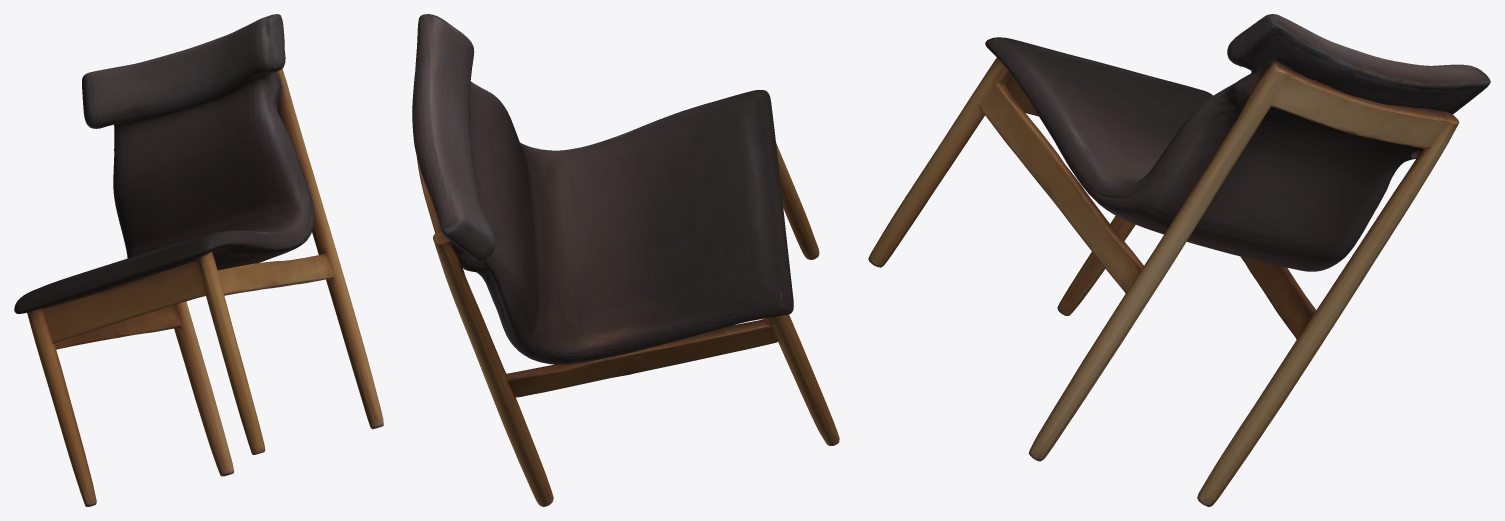
Rendered from dark_brown_leather_chair_on_the_left_000.glb.
3 views of the same model, side by side, from view 1: azimuth 30°, elevation 25°; view 2: azimuth 150°, elevation 25°; view 3: azimuth 270°, elevation 25° (orthographic). The views are drawn at different scales.
Parts seen in each view (by area): view 1: dark_brown_leather_chair_on_the_left_000.obj; view 2: dark_brown_leather_chair_on_the_left_000.obj; view 3: dark_brown_leather_chair_on_the_left_000.obj.
Boxes of the visible parts, x1,y1,x2,y2 form: dark_brown_leather_chair_on_the_left_000.obj: [14, 14, 383, 506]; dark_brown_leather_chair_on_the_left_000.obj: [412, 14, 839, 506]; dark_brown_leather_chair_on_the_left_000.obj: [868, 14, 1490, 506].
Bounding box in the file's own units: 0.5787 × 0.7774 × 0.821.
1 material, 1 textured.
